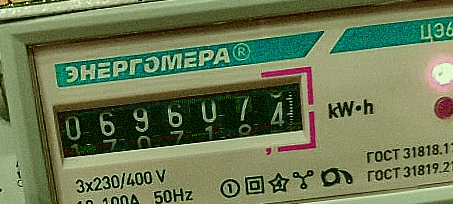0: (62, 111, 84, 142), (197, 95, 219, 124)
4: (266, 99, 287, 129)
6: (164, 98, 185, 128), (96, 108, 116, 137)
7: (231, 91, 254, 123)
9: (129, 104, 150, 134)
screen: (38, 61, 325, 179)
